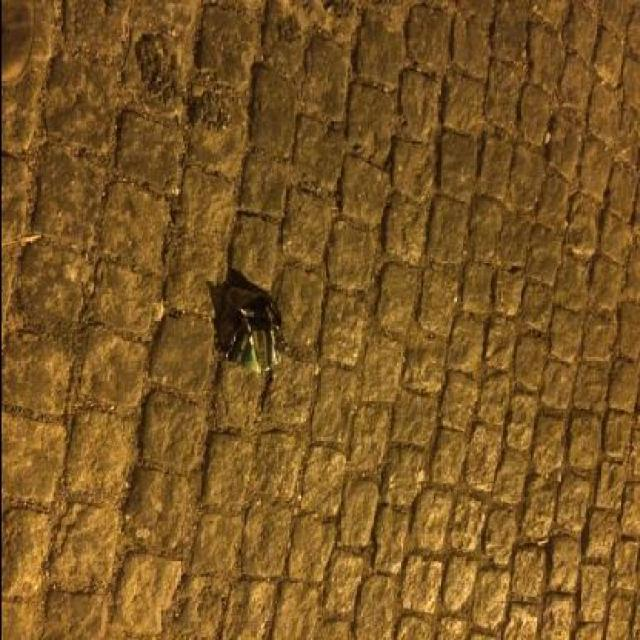plastic: (224, 297, 287, 374)
